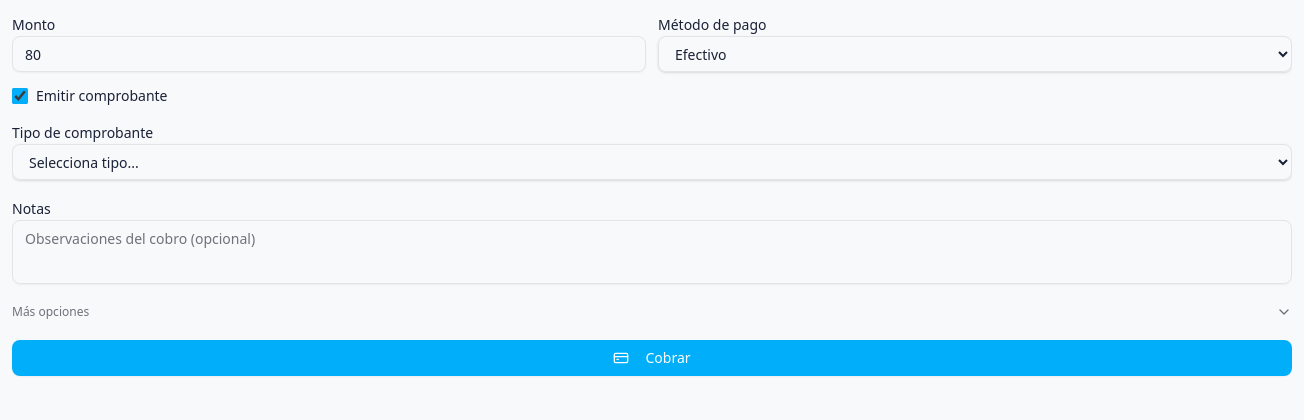
Test: CobrarSaldoSubform › A2: shows validation error when amount is zero
This screenshot has width=1304, height=420.
Replace the text in the number field labelled "Monto" with "0" at (329, 54), box [12,36,646,72]
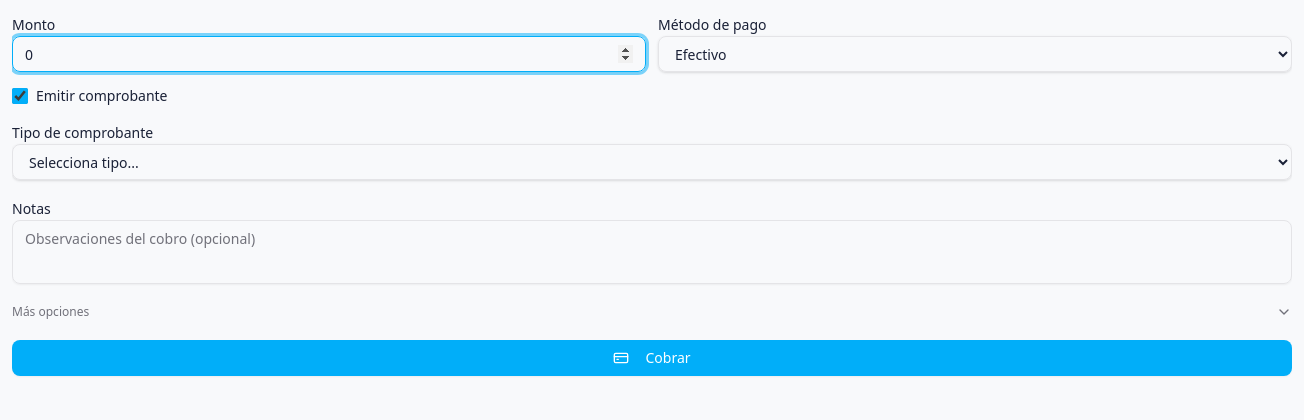
Click the button "Cobrar".
click(652, 358)  # box [12,340,1292,376]
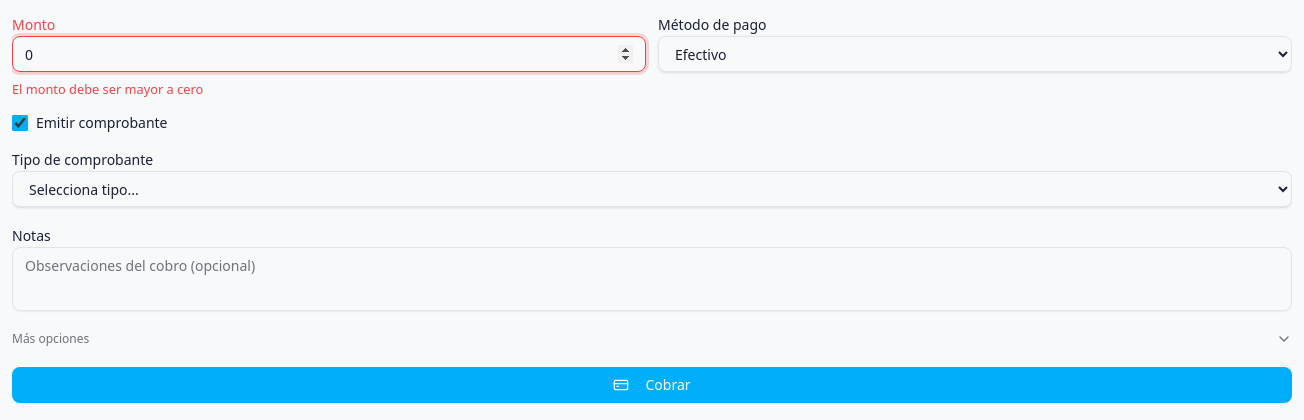
Expected: the text "El monto debe ser mayor a cero" is shown, [12,80,203,98]
